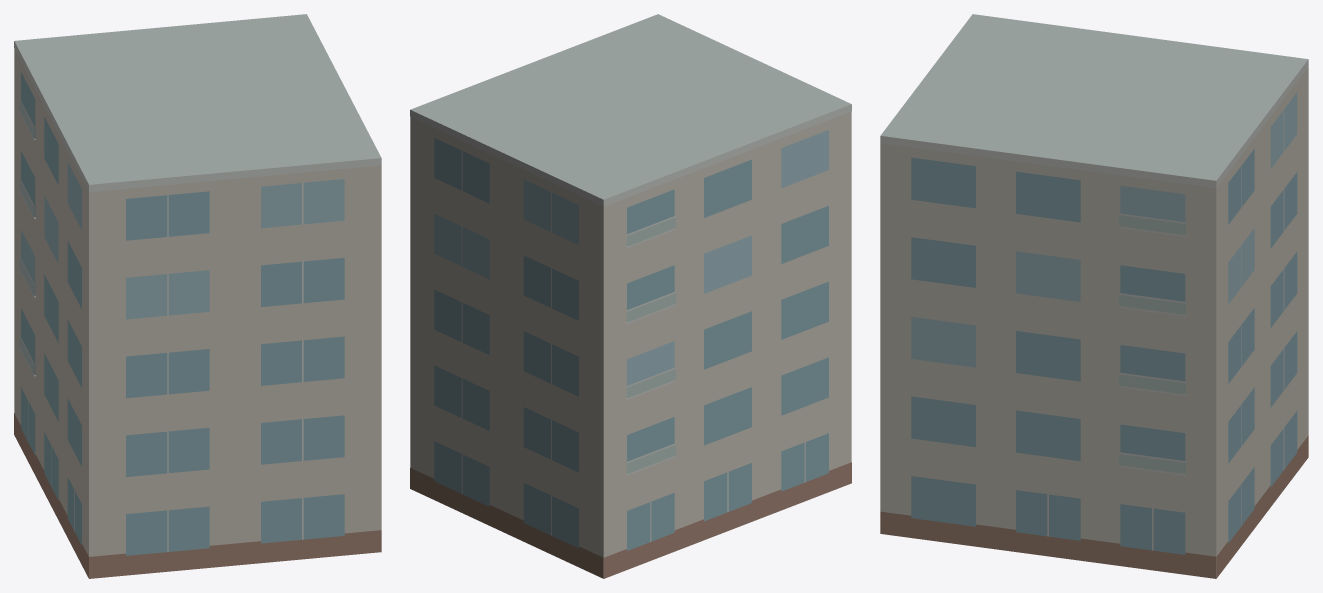
The model's file is survey-upis-32967163.glb.
3 renders of one model, left to right at view 1: azimuth 30°, elevation 25°; view 2: azimuth 150°, elevation 25°; view 3: azimuth 270°, elevation 25°, orthographic. The views are drawn at different scales.
Parts seen in each view (by area): view 1: survey-upis-32967163.tmp; view 2: survey-upis-32967163.tmp; view 3: survey-upis-32967163.tmp.
Boxes of the visible parts, left/top/right/bottom form: survey-upis-32967163.tmp: left=14, top=14, right=381, bottom=578; survey-upis-32967163.tmp: left=410, top=14, right=851, bottom=578; survey-upis-32967163.tmp: left=880, top=14, right=1308, bottom=578.
Size of the model in its own units: 11.83 by 13.15 by 12.83.
